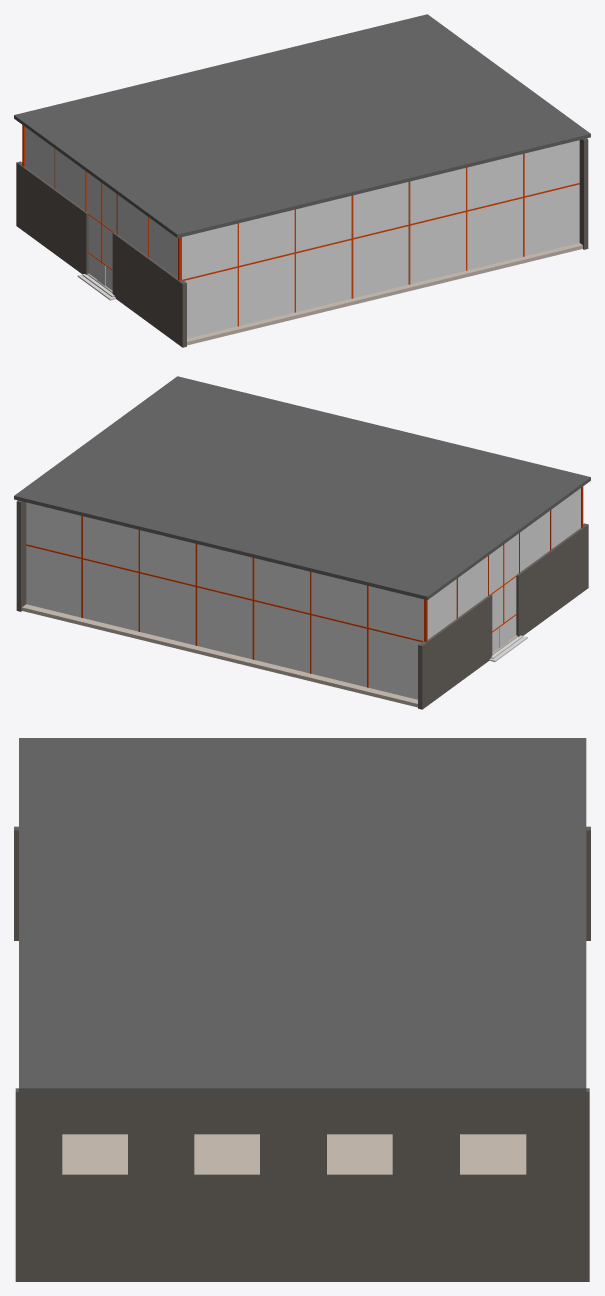
Rendered from buidling.fbx.
3 renders of one model, top to bottom at view 1: azimuth 30°, elevation 25°; view 2: azimuth 150°, elevation 25°; view 3: azimuth 270°, elevation 25°, orthographic. The views are drawn at different scales.
Parts seen in each view (by area): view 1: Cube.020, Cube.021, Cube.009, Cube.003, Cube.002, Cube, Cube.007, Cube.001, Cube.022; view 2: Cube.020, Cube.019, Cube.009, Cube.002, Cube.003, Cube, Cube.007, Cube.001, Cube.023; view 3: Cube.020, Cube.001, Cube.421.
Part boxes in pixels (x1=…): Cube.020: x1=14, y1=14, x2=590, y2=238; Cube.021: x1=182, y1=140, x2=579, y2=338; Cube.009: x1=25, y1=127, x2=177, y2=278; Cube.003: x1=112, y1=232, x2=186, y2=347; Cube.002: x1=16, y1=161, x2=88, y2=274; Cube: x1=87, y1=243, x2=582, y2=345; Cube.007: x1=88, y1=215, x2=112, y2=290; Cube.001: x1=579, y1=138, x2=588, y2=249; Cube.022: x1=183, y1=182, x2=579, y2=280; Cube.020: x1=14, y1=376, x2=590, y2=600; Cube.019: x1=26, y1=502, x2=423, y2=699; Cube.009: x1=427, y1=488, x2=580, y2=639; Cube.002: x1=418, y1=594, x2=492, y2=709; Cube.003: x1=516, y1=523, x2=588, y2=636; Cube: x1=22, y1=604, x2=517, y2=707; Cube.007: x1=492, y1=577, x2=516, y2=652; Cube.001: x1=16, y1=500, x2=26, y2=611; Cube.023: x1=26, y1=544, x2=422, y2=641; Cube.020: x1=19, y1=738, x2=586, y2=1094; Cube.001: x1=15, y1=1088, x2=589, y2=1281; Cube.421: x1=62, y1=1134, x2=526, y2=1174.
Size of the model in its own units: 6164 by 1607 by 4272.
